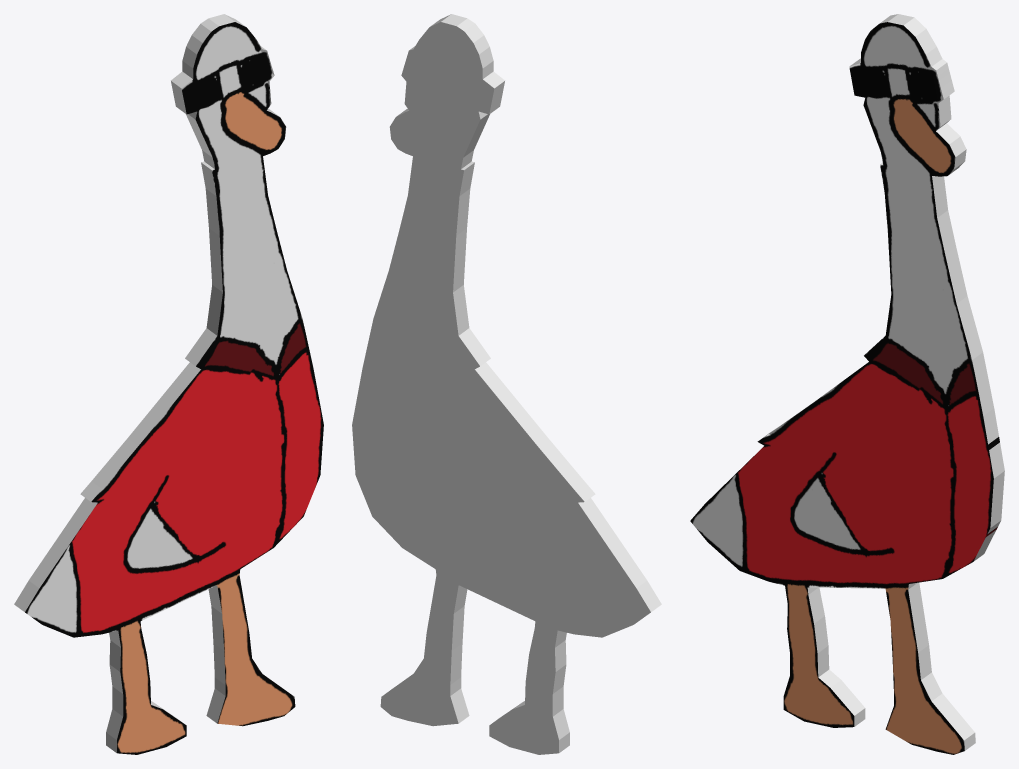
File: rikki.gltf
3 views of the same model, side by side, from view 1: azimuth 30°, elevation 25°; view 2: azimuth 150°, elevation 25°; view 3: azimuth 330°, elevation 25° (orthographic).
Visible parts, largest first — view 1: rikki-color; view 2: rikki-color; view 3: rikki-color.
Part boxes in pixels (x1,y1,x2,y2): rikki-color: [14, 14, 323, 754]; rikki-color: [352, 14, 661, 754]; rikki-color: [690, 14, 1004, 754].
Bounding box in the file's own units: 0.4312 × 0.977 × 0.027.
4 materials, 1 textured.
